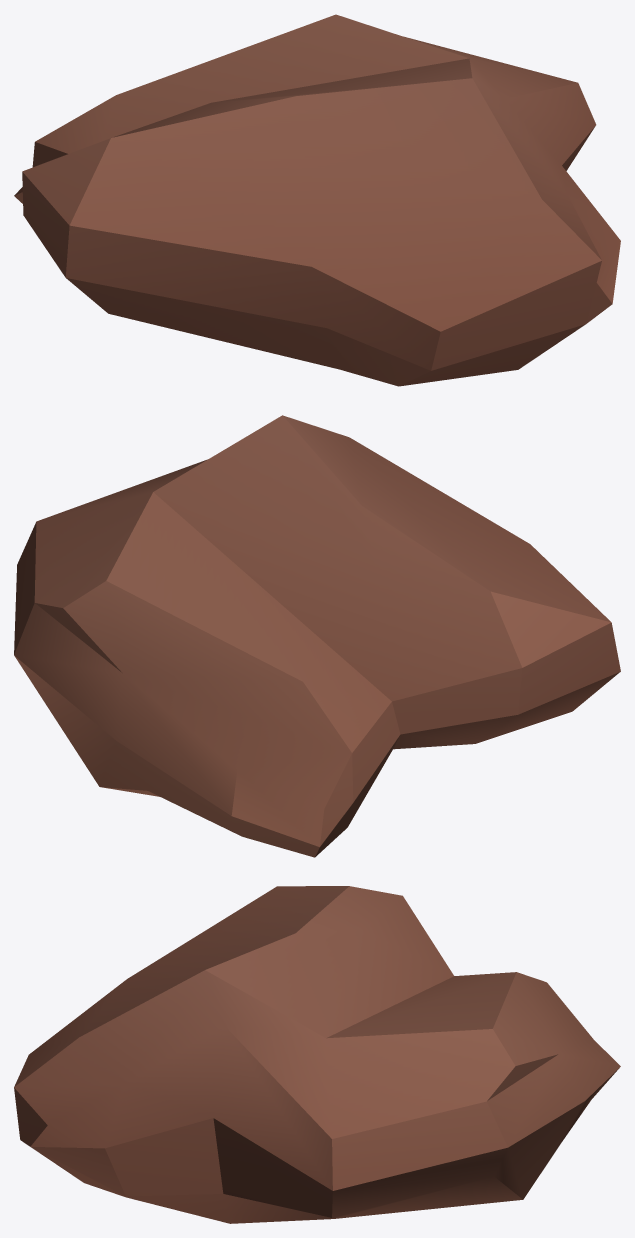
File: Prop_stone_03.fbx
3 renders of one model, top to bottom at view 1: azimuth 30°, elevation 25°; view 2: azimuth 150°, elevation 25°; view 3: azimuth 270°, elevation 25°, orthographic. The views are drawn at different scales.
Parts seen in each view (by area): view 1: Stone_3; view 2: Stone_3; view 3: Stone_3.
Boxes of the visible parts, box(x1,y1,x2,y2) form: Stone_3: box(14, 14, 620, 386); Stone_3: box(14, 415, 620, 857); Stone_3: box(14, 886, 620, 1223).
Bounding box in the file's own units: 170 × 78.78 × 171.
